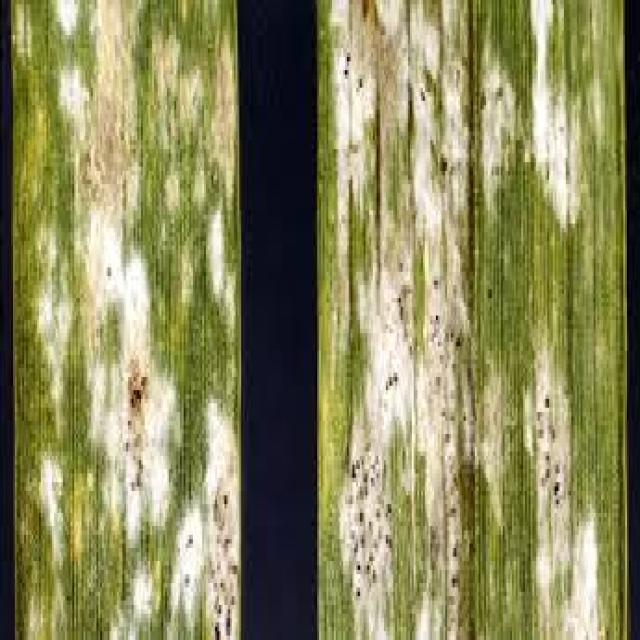Powdery Mildew: (314, 5, 616, 640), (7, 0, 243, 640)
